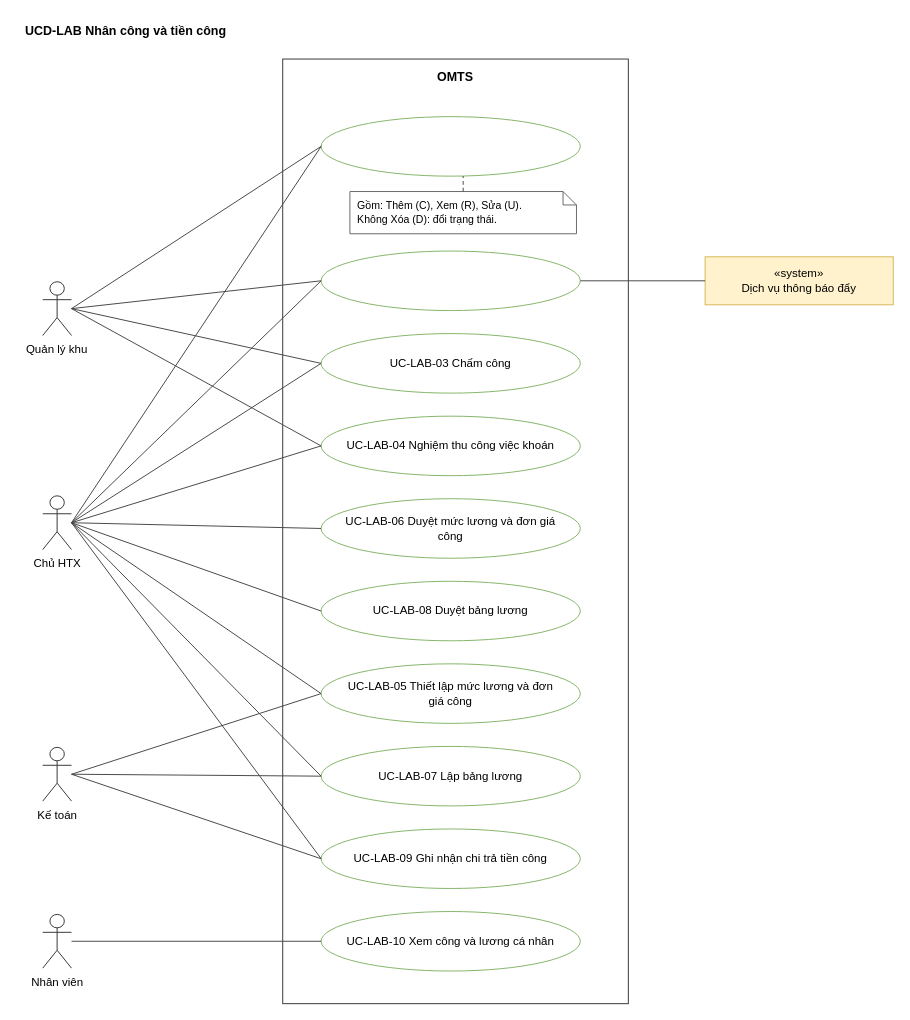
Some shapes in this 910 by 1020 pixel diagram are drawn without their labels. Here are the shapes that lost their labels. From the top down, the centre of each, then its label:
point (450, 146): UC-LAB-01 Quản lý lao động thời vụ
point (450, 280): UC-LAB-02 Phân công công việc
